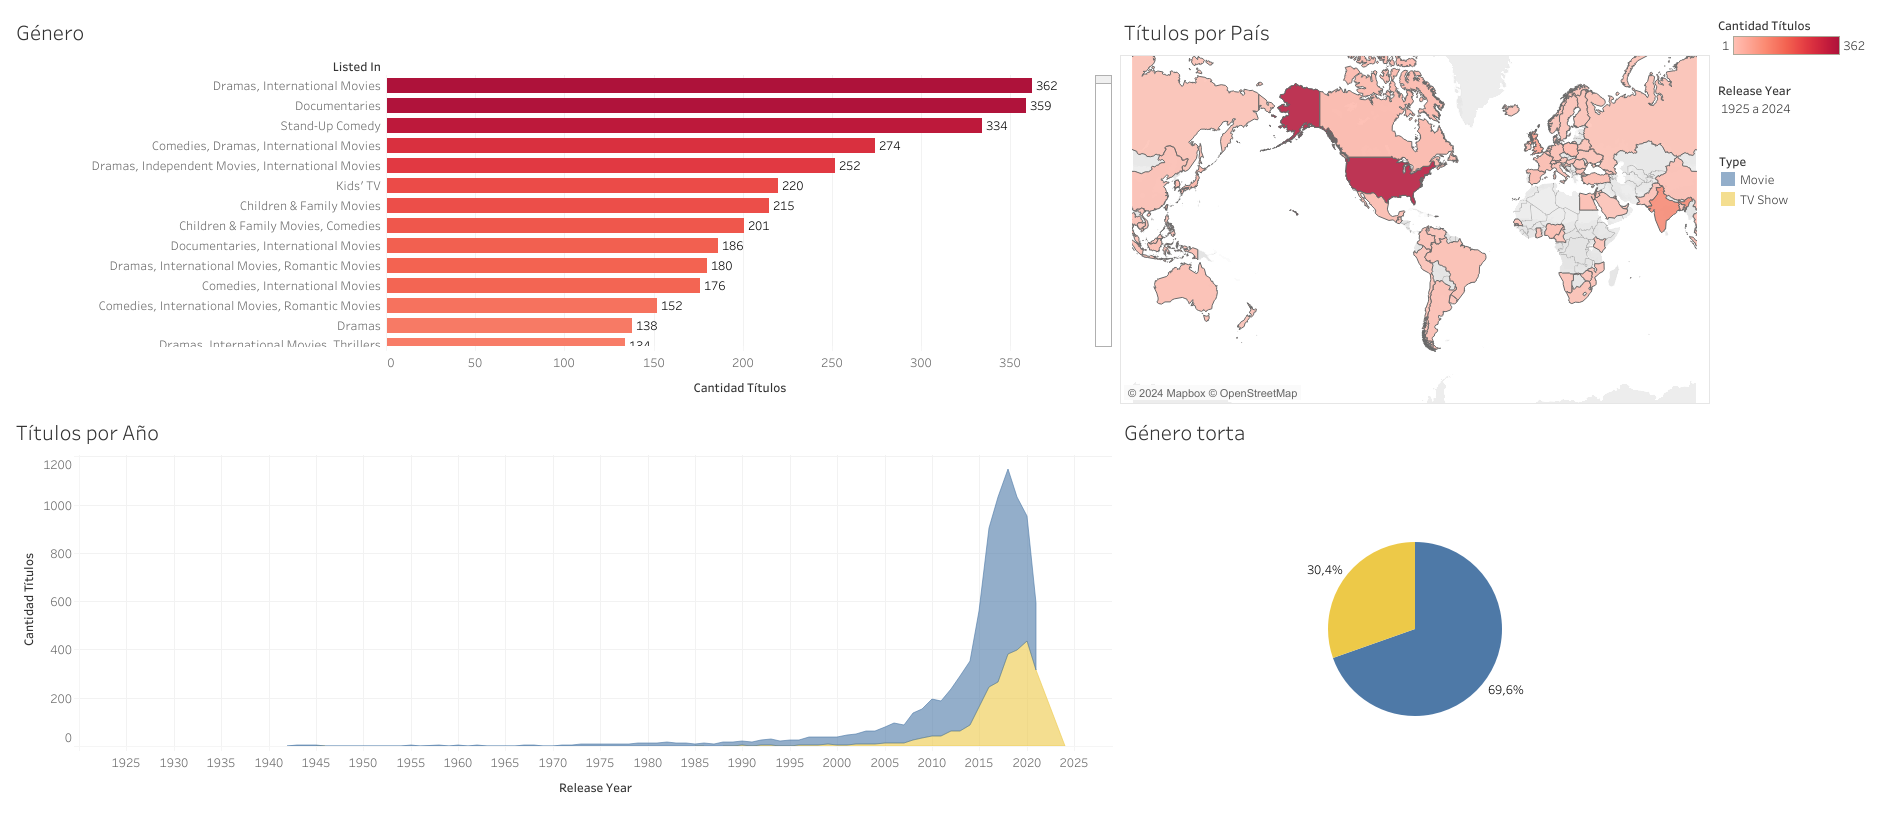

The page's visual inventory and layout, read from the dashboard file:
{"tool":"tableau","page":{"name":"Resumen Ejecutivo","canvas":[1000,1000],"units":"permille","ordinal":0},"visuals":[{"type":"image","param":"Image/1.netflix.png","box":[4.7,10,117.6,116.1]},{"type":"worksheet","title":"KPIs","mark":"Automatic","box":[122.3,10,873,111.1]},{"type":"title","box":[4.7,126.1,117.6,40]},{"type":"worksheet","title":"Género","mark":"Automatic","rows":["listed_in"],"cols":["Calculation_15199694149640392"],"box":[122.3,126.1,566.9,431.8]},{"type":"worksheet","title":"Títulos por País","mark":"Multipolygon","box":[689.2,126.1,306.1,432.4]},{"type":"filter","title":"Títulos por Año","param":"[federated.15btwf1176jlv81d6whtg15a40k9].[none:release_year:qk]","box":[4.7,166,117.6,161.1]},{"type":"filter","title":"Género","param":"[federated.15btwf1176jlv81d6whtg15a40k9].[none:listed_in:nk]","box":[4.7,327.1,117.6,76.2]},{"type":"filter","title":"Género torta","param":"[federated.15btwf1176jlv81d6whtg15a40k9].[none:type:nk]","box":[4.7,403.2,117.6,126.1]},{"type":"filter","title":"Títulos por País","param":"[federated.15btwf1176jlv81d6whtg15a40k9].[none:country:nk]","box":[4.7,529.3,117.6,76.2]},{"type":"worksheet","title":"Títulos por Año","mark":"Area","rows":["Calculation_15199694149640392"],"cols":["release_year"],"box":[122.3,557.9,566.9,432.1]},{"type":"worksheet","title":"Género torta","mark":"Pie","box":[689.2,558.5,306.1,431.6]},{"type":"filter","title":"Género","param":"[federated.15btwf1176jlv81d6whtg15a40k9].[none:country:nk]","box":[4.7,605.5,117.6,76.2]},{"type":"filter","title":"Género torta","param":"[federated.15btwf1176jlv81d6whtg15a40k9].[none:Calculation_14988587884474626:qk]","box":[4.7,681.6,117.6,98.6]},{"type":"filter","title":"Género torta","param":"[federated.15btwf1176jlv81d6whtg15a40k9].[none:Calculation_14988587884720387:qk]","box":[4.7,780.3,117.6,98.6]}]}

Visuals, with their boxes on the dashboard's canvas, which has no fixed pixel size, in thousandths of its width and height (x1, y1, x2, y2). These are canvas units, not pixel positions in the 1881x814 screenshot, which may show the page scaled, cropped or inside an application window:
image: select_region(5, 10, 122, 126)
"KPIs" worksheet: select_region(122, 10, 995, 121)
title: select_region(5, 126, 122, 166)
"Género" worksheet: select_region(122, 126, 689, 558)
"Títulos por País" worksheet (Multipolygon marks): select_region(689, 126, 995, 558)
"Títulos por Año" filter: select_region(5, 166, 122, 327)
"Género" filter: select_region(5, 327, 122, 403)
"Género torta" filter: select_region(5, 403, 122, 529)
"Títulos por País" filter: select_region(5, 529, 122, 606)
"Títulos por Año" worksheet (Area marks): select_region(122, 558, 689, 990)
"Género torta" worksheet (Pie marks): select_region(689, 558, 995, 990)
"Género" filter: select_region(5, 606, 122, 682)
"Género torta" filter: select_region(5, 682, 122, 780)
"Género torta" filter: select_region(5, 780, 122, 879)
